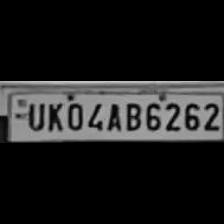0: (63, 99, 83, 131)
2: (200, 98, 220, 132), (162, 99, 180, 133)
4: (84, 99, 104, 131)
6: (141, 98, 161, 132), (180, 100, 200, 132)
A: (104, 98, 122, 132)
B: (121, 98, 141, 132)
K: (44, 100, 64, 132)
U: (24, 100, 44, 132)
